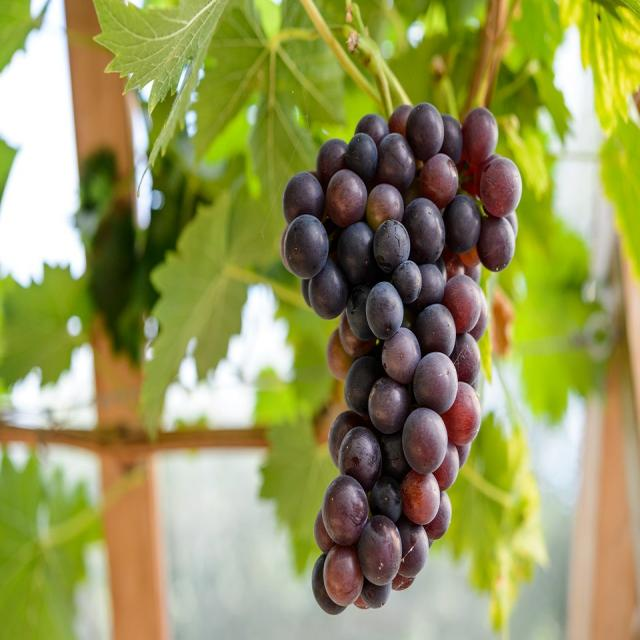grape: (277, 97, 526, 620)
